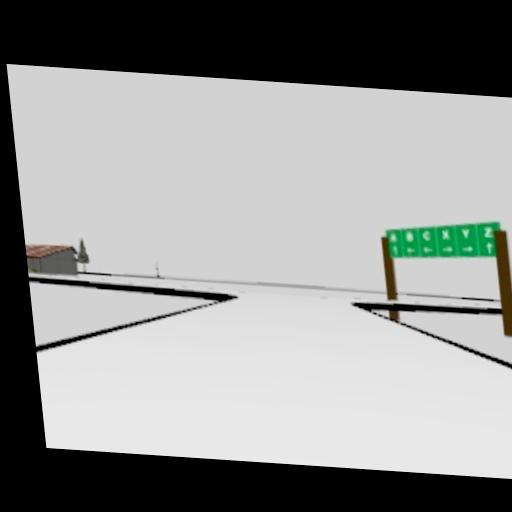A: (389, 233, 397, 242)
B: (405, 231, 415, 243)
C: (422, 230, 432, 242)
Left: (423, 246, 435, 254), (406, 247, 417, 255)
Right: (461, 246, 474, 254), (441, 246, 453, 254)
Straight: (391, 245, 400, 257), (485, 242, 494, 254)
X: (440, 228, 451, 240)
Y: (461, 228, 471, 239)
Z: (482, 227, 494, 239)
